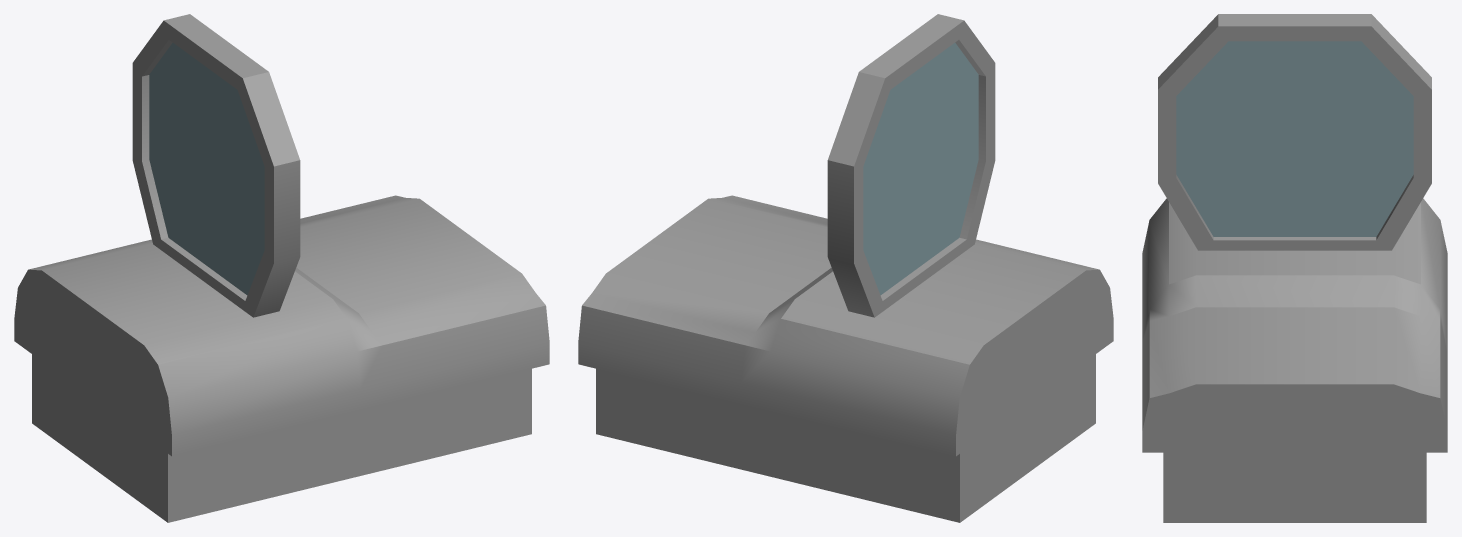
Rendered from Sight_2.glb.
The picture shows the model from 3 angles, left to right: view 1: azimuth 30°, elevation 25°; view 2: azimuth 150°, elevation 25°; view 3: azimuth 270°, elevation 25°; orthographic projection. The views are drawn at different scales.
Visible parts, largest first — view 1: Sight_2; view 2: Sight_2; view 3: Sight_2.
Boxes of the visible parts, x1,y1,x2,y2 form: Sight_2: (14, 14, 549, 522); Sight_2: (578, 14, 1113, 522); Sight_2: (1142, 14, 1447, 522).
Bounding box in the file's own units: 0.1406 × 0.1418 × 0.1017.
